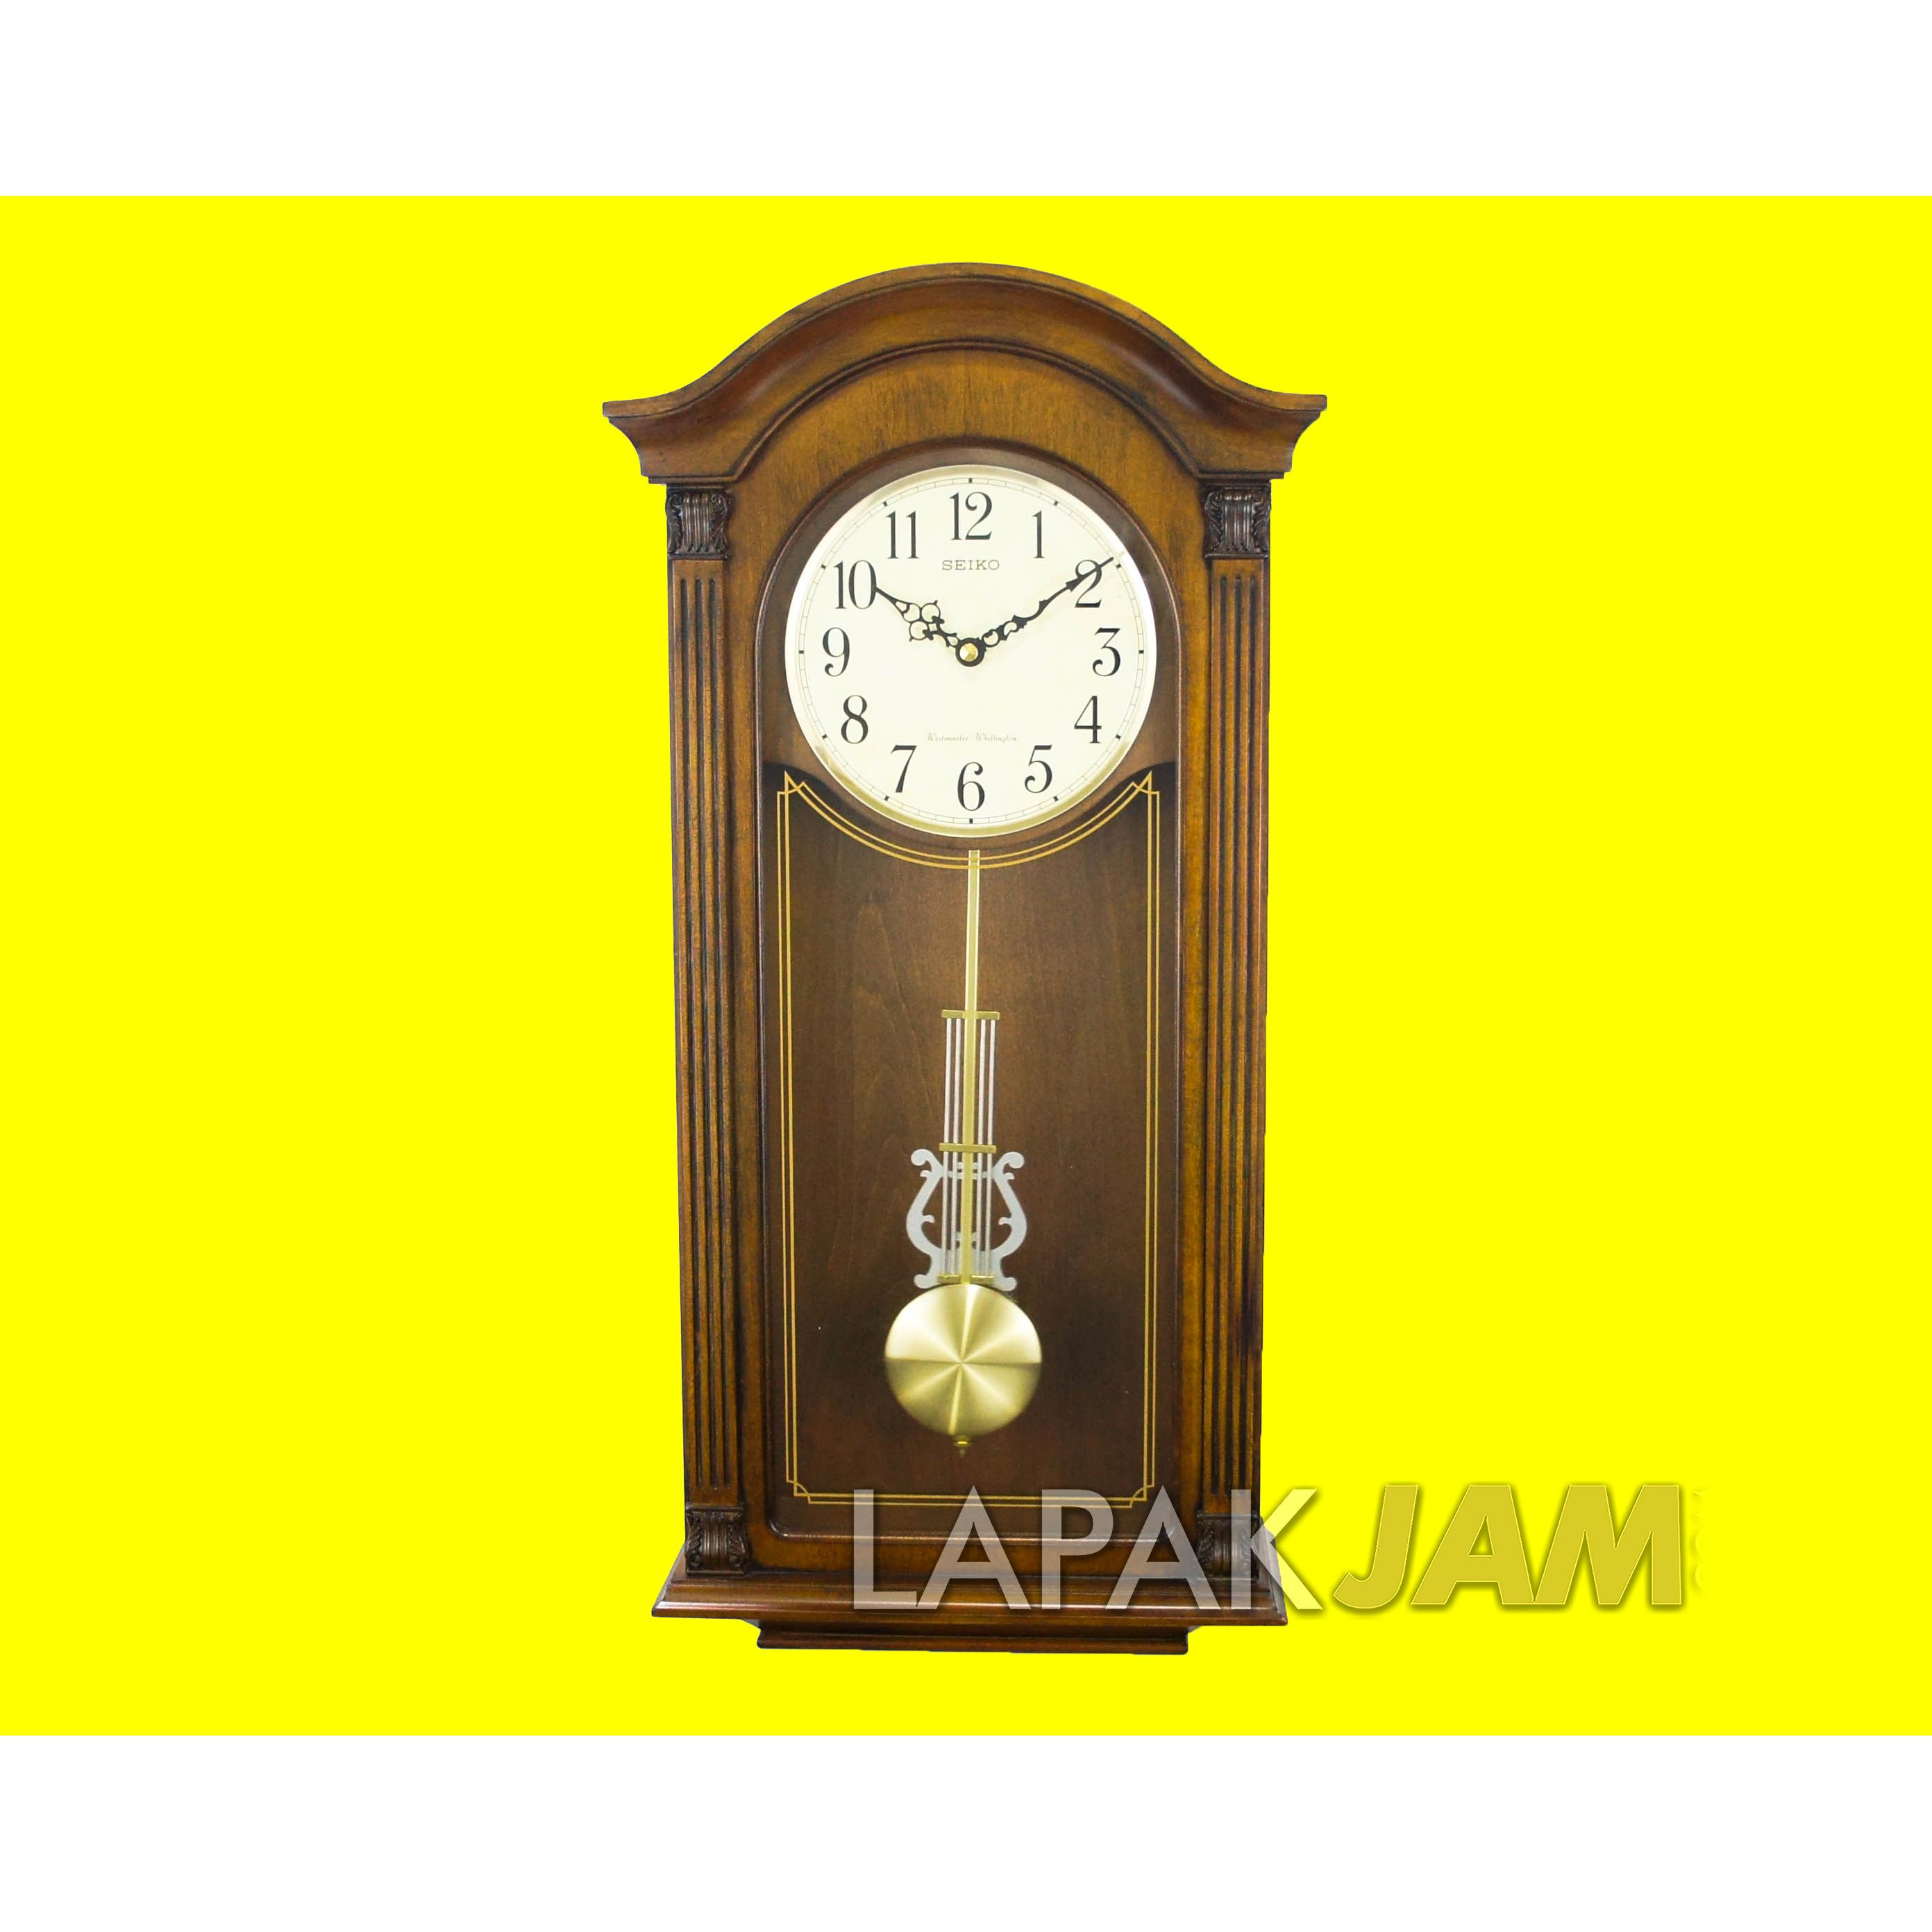jam dinding: (552, 267, 1384, 1651)
